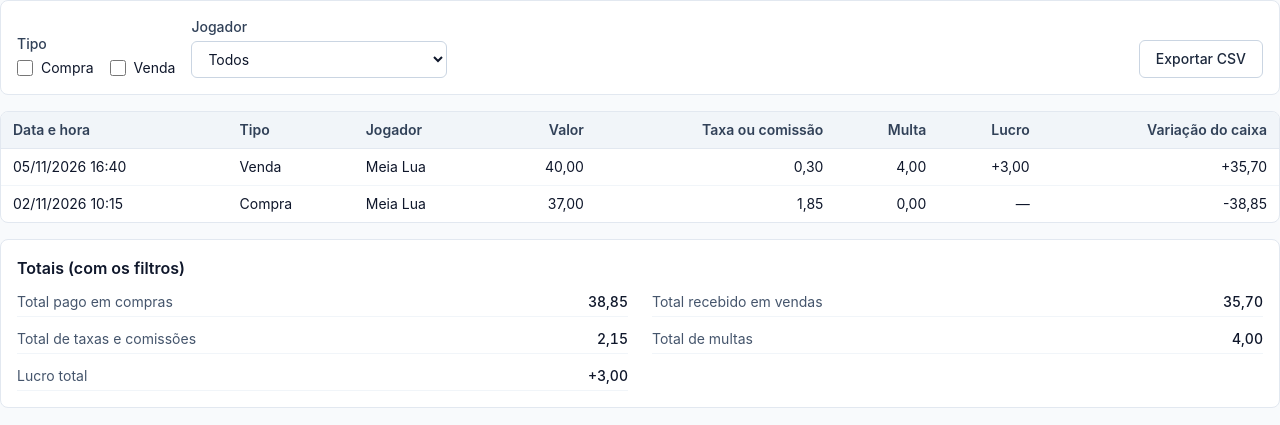
TransactionsTab › mostra o message da API quando o filtro é recusado
The width and height of the screenshot is (1280, 425).
Select "Meia Lua" in the dropdown labelled "Jogador". click: (319, 60)
box: [191,41,447,78]
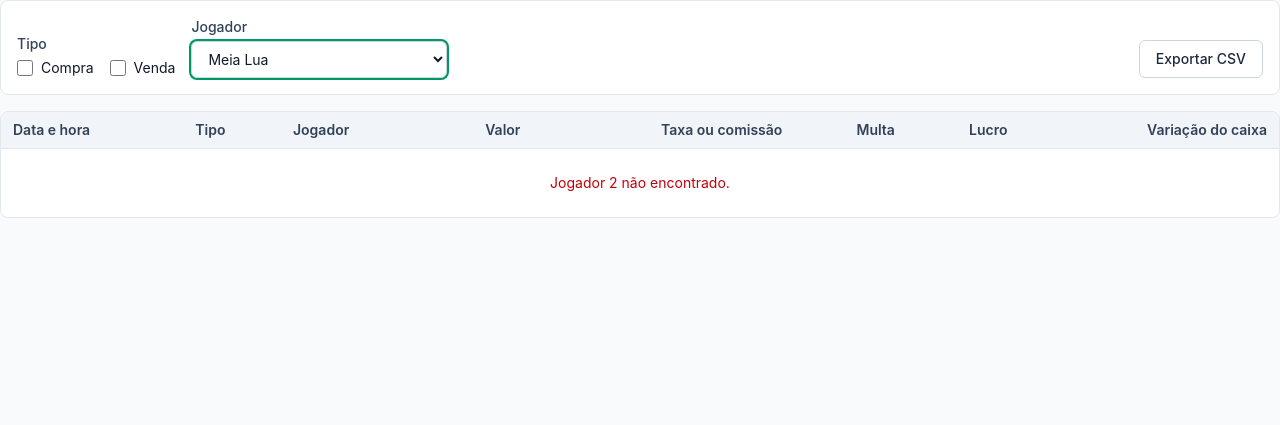
Expected: the message reads "Jogador 2 não encontrado.", [550,174,730,191]
